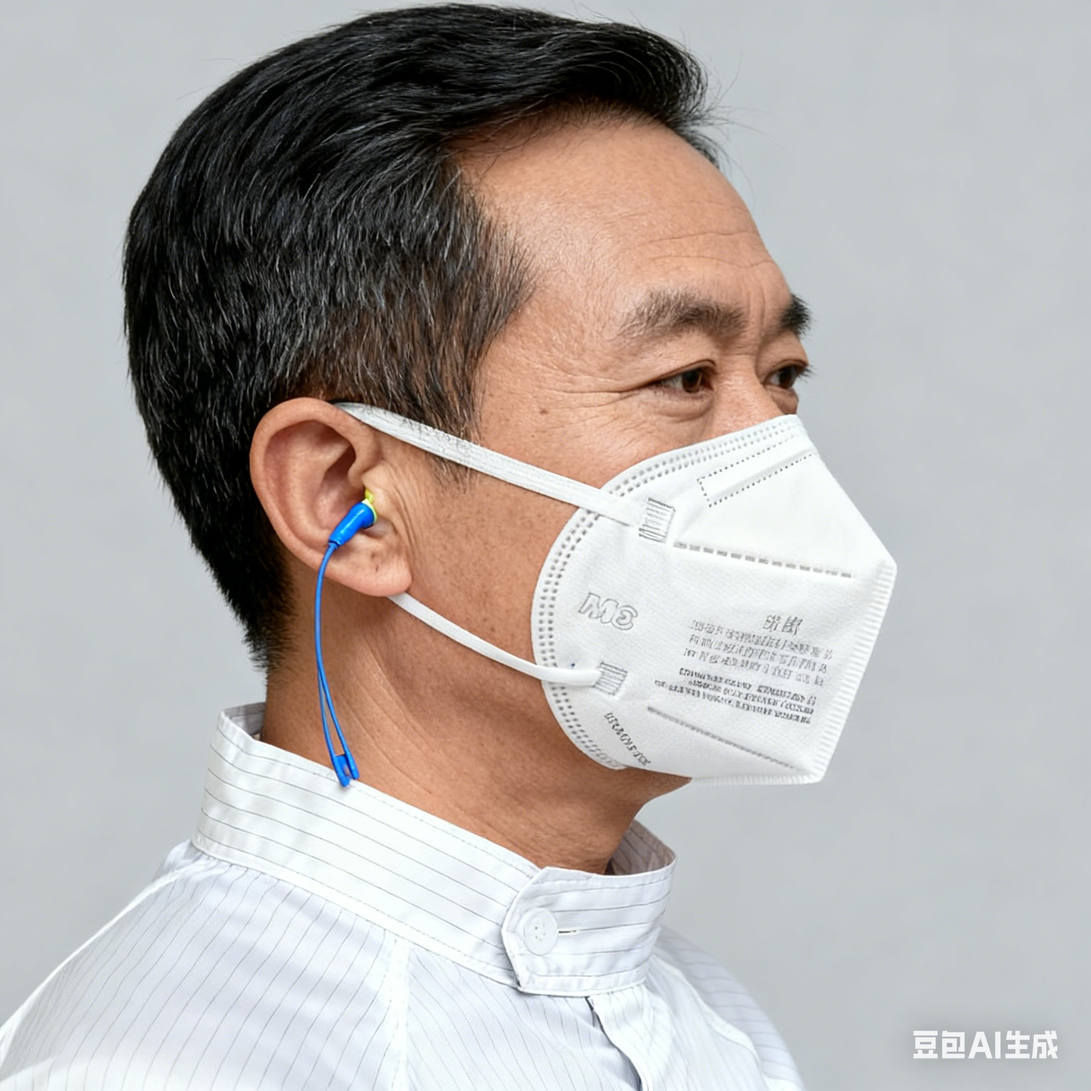MASK: (544, 415, 892, 777)
